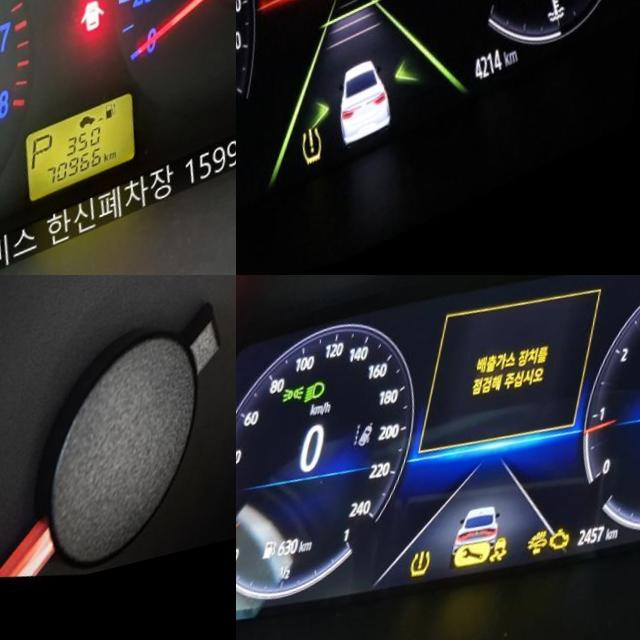Doors: (82, 12, 115, 54)
Low beam: (307, 385, 331, 414)
SideLamp: (284, 389, 310, 411)
